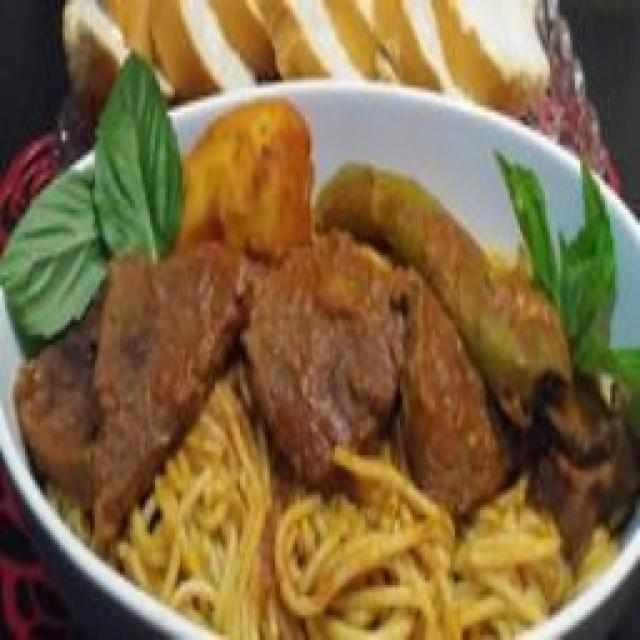Pasta: (0, 28, 640, 640)
